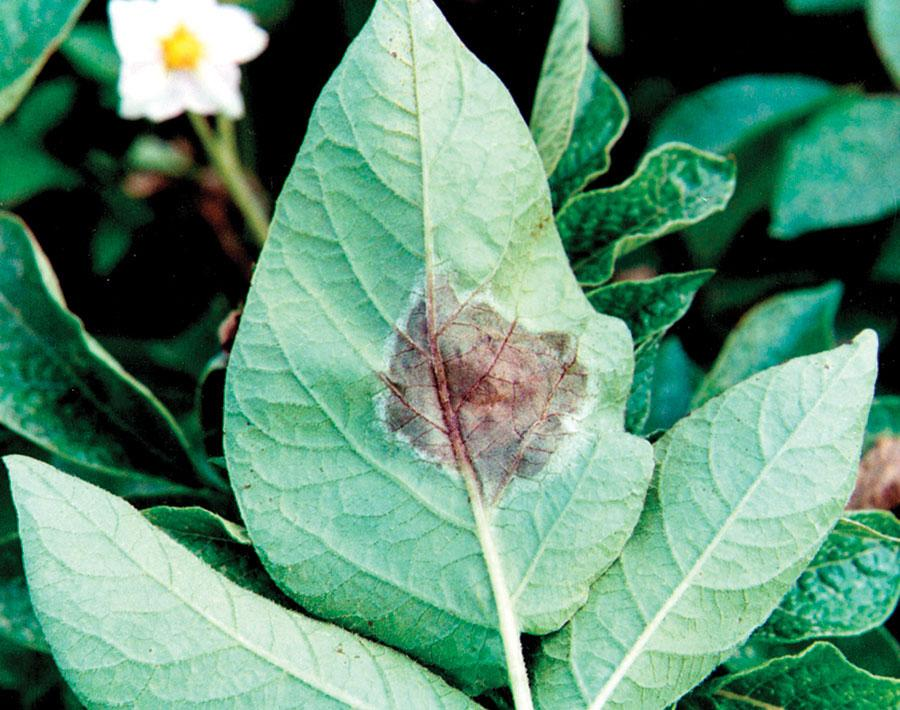Potato leaf: (213, 1, 648, 688)
